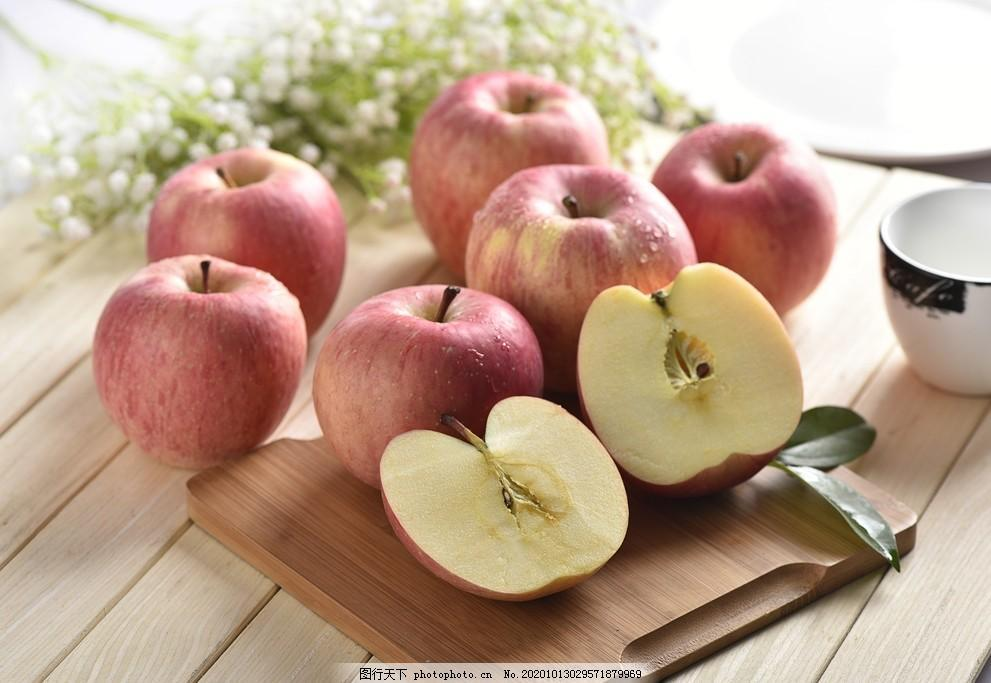apple: (91, 251, 309, 471), (310, 284, 541, 490), (410, 69, 613, 282), (466, 160, 698, 346), (146, 143, 349, 333), (651, 120, 838, 316)
